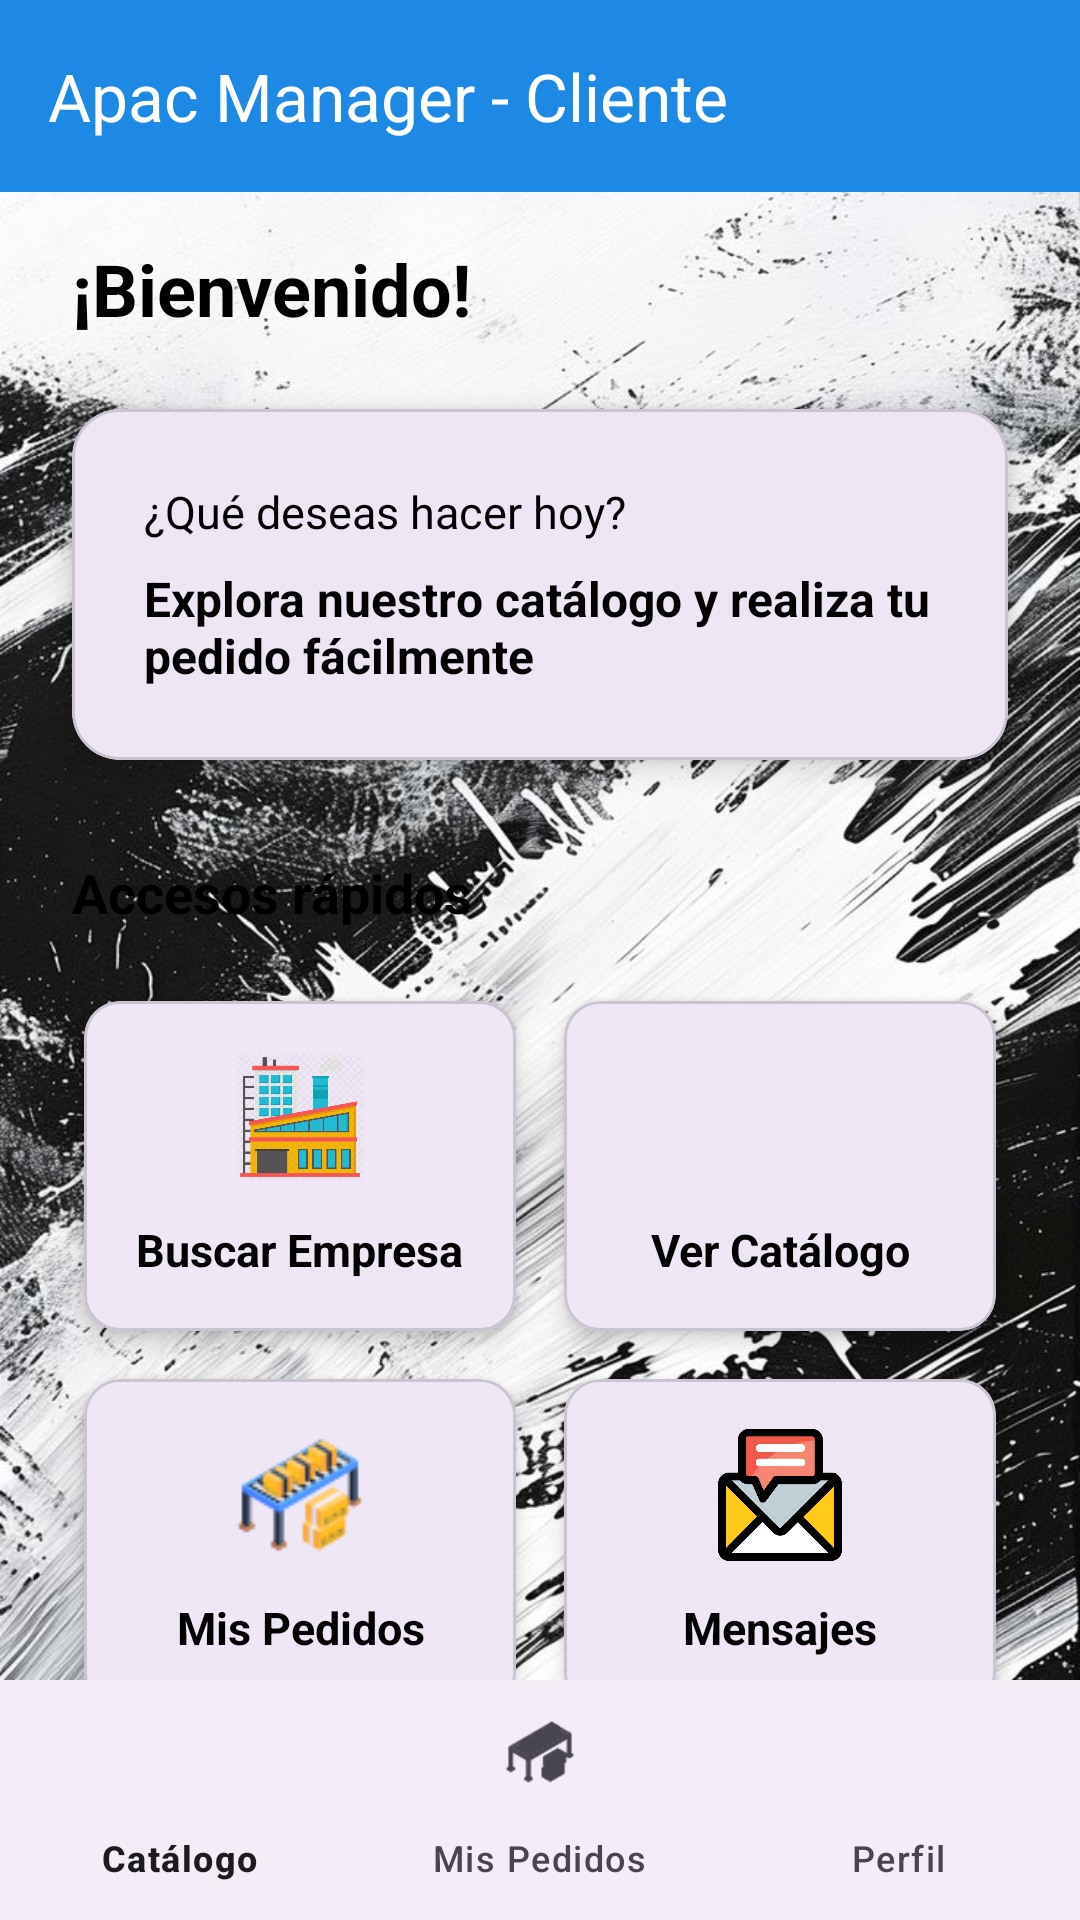

Icon click points for this 1080×1920 phone screenshot, format (x=x, y=y):
iconemail: (x=780, y=1495)
iconoempresa: (x=300, y=1117)
iconpaquetes: (x=300, y=1495)
